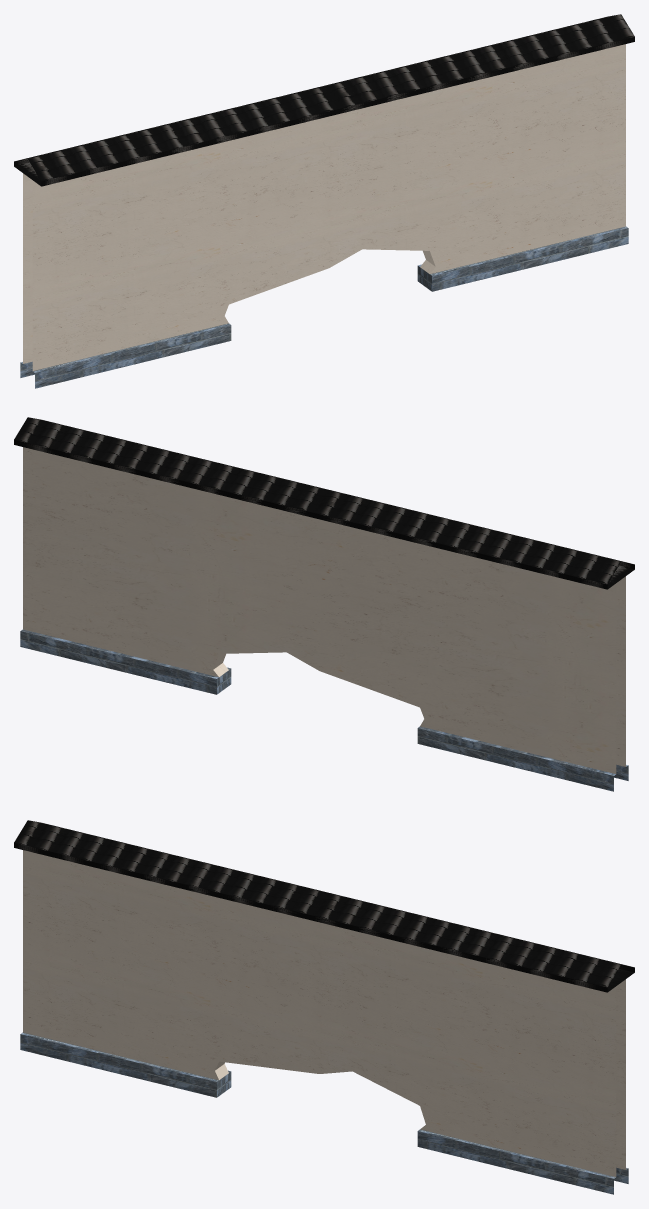
Rendered from WallHighSlide02.fbx.
The picture shows the model from 3 angles, top to bottom: view 1: azimuth 30°, elevation 25°; view 2: azimuth 150°, elevation 25°; view 3: azimuth 330°, elevation 25°; orthographic projection.
Parts seen in each view (by area): view 1: Cube_025, Cube_041, Cube_042; view 2: Cube_025, Cube_041, Cube_042; view 3: Cube_025, Cube_041, Cube_042.
Boxes of the visible parts, x1,y1,x2,y2 form: Cube_025: (23,44,625,370); Cube_041: (14,14,634,186); Cube_042: (20,226,628,388); Cube_025: (23,447,625,773); Cube_041: (14,417,634,589); Cube_042: (20,629,628,791); Cube_025: (23,850,625,1176); Cube_041: (14,820,634,992); Cube_042: (20,1032,628,1194).
Size of the model in its own units: 2155 by 779 by 173.
